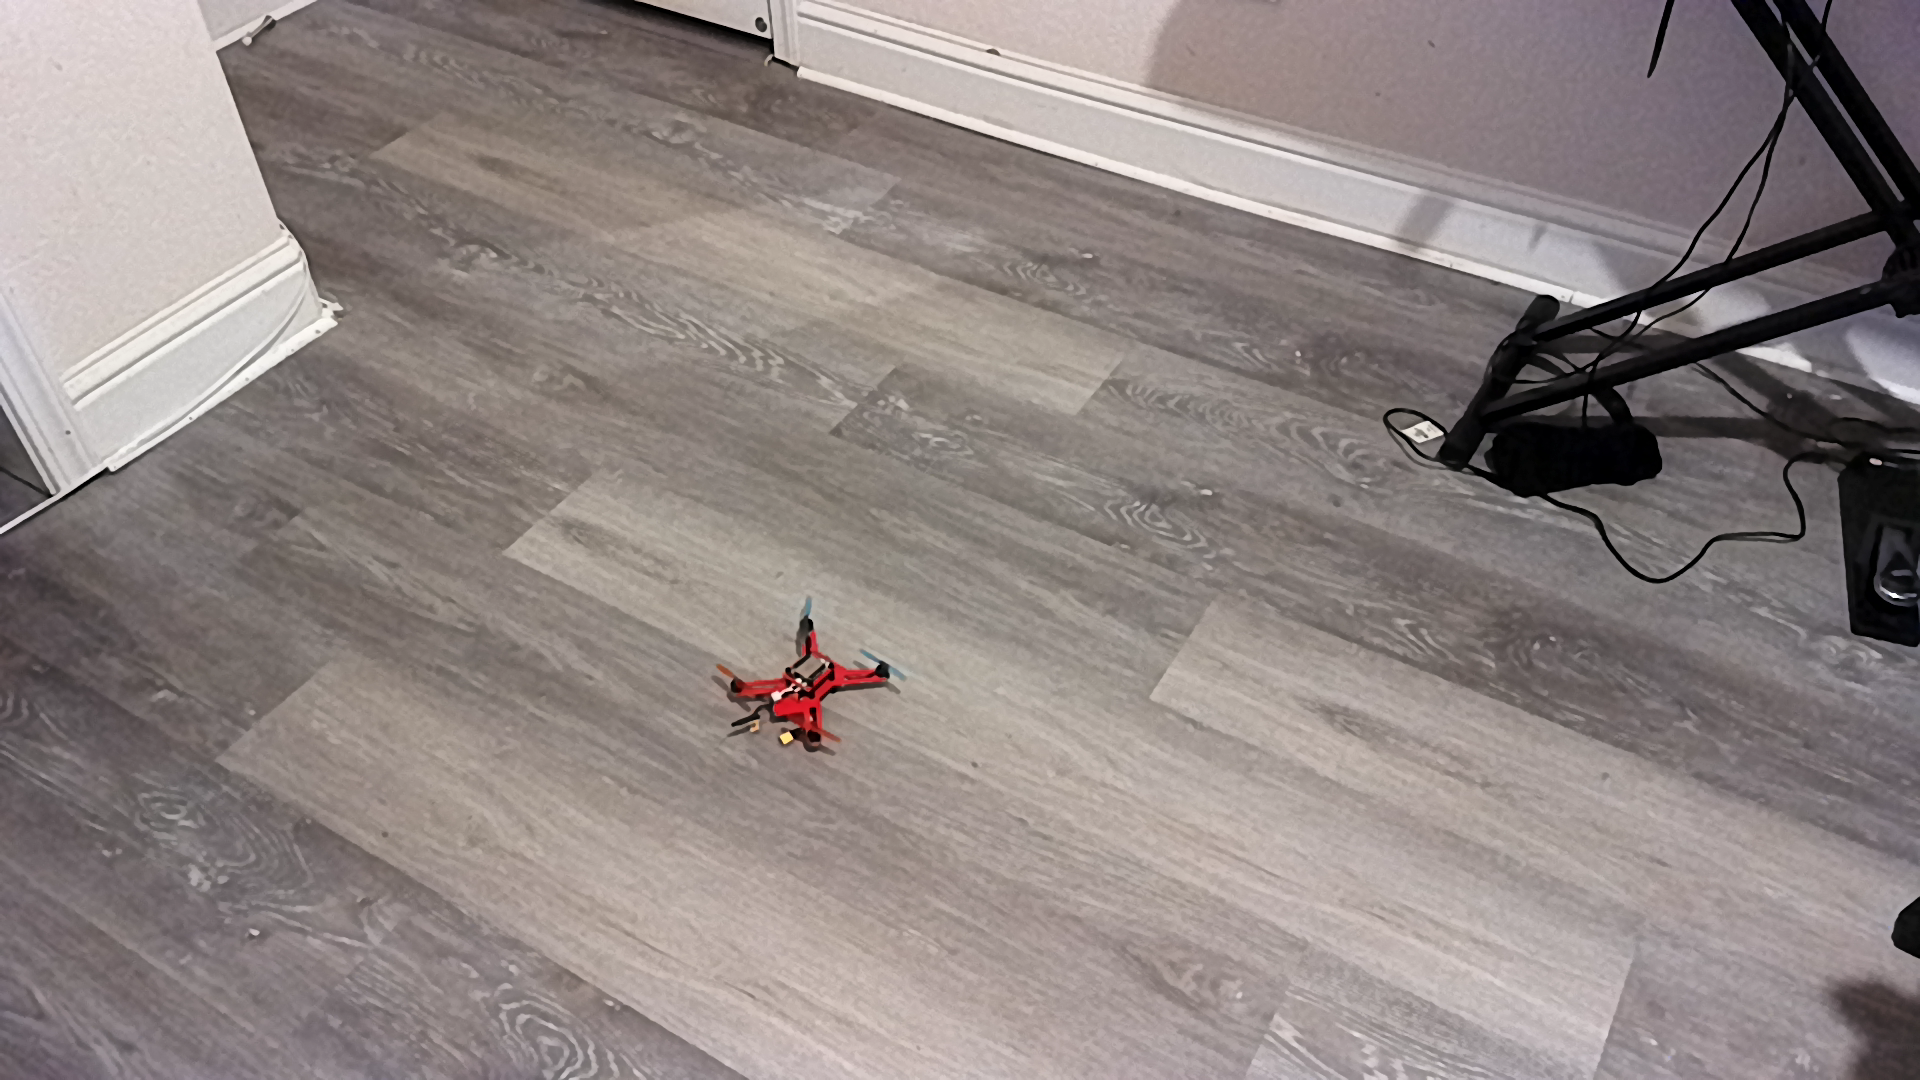drone: (705, 595, 918, 769)
